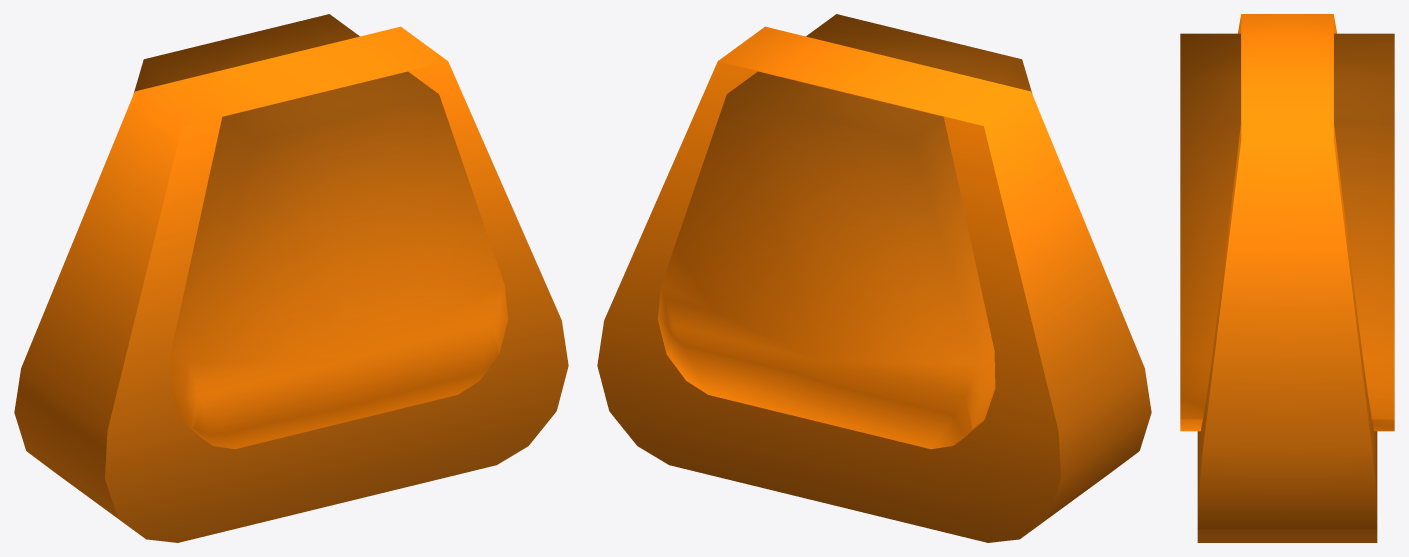
File: bronze_pommel_143.glb
3 views of the same model, side by side, from view 1: azimuth 30°, elevation 25°; view 2: azimuth 150°, elevation 25°; view 3: azimuth 270°, elevation 25° (orthographic). The views are drawn at different scales.
Parts seen in each view (by area): view 1: bronze_pommel_143; view 2: bronze_pommel_143; view 3: bronze_pommel_143.
Boxes of the visible parts, x1,y1,x2,y2 form: bronze_pommel_143: [14, 14, 568, 542]; bronze_pommel_143: [597, 14, 1151, 542]; bronze_pommel_143: [1180, 14, 1394, 542].
Size of the model in its own units: 2.35 by 1.9 by 0.961.
1 material, 1 textured.
